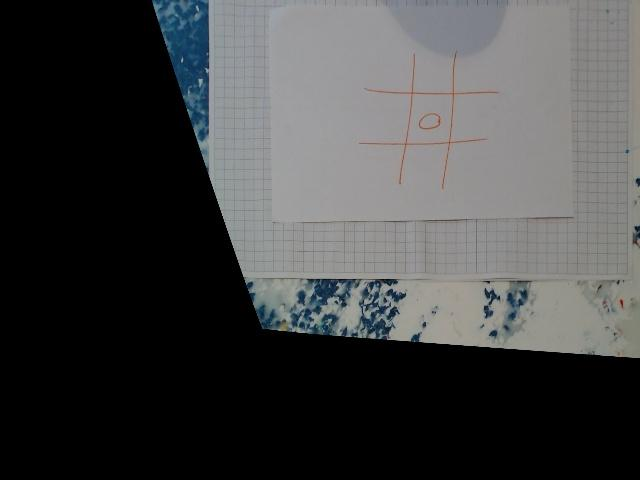O: (416, 108, 444, 132)
grid: (360, 52, 495, 192)
